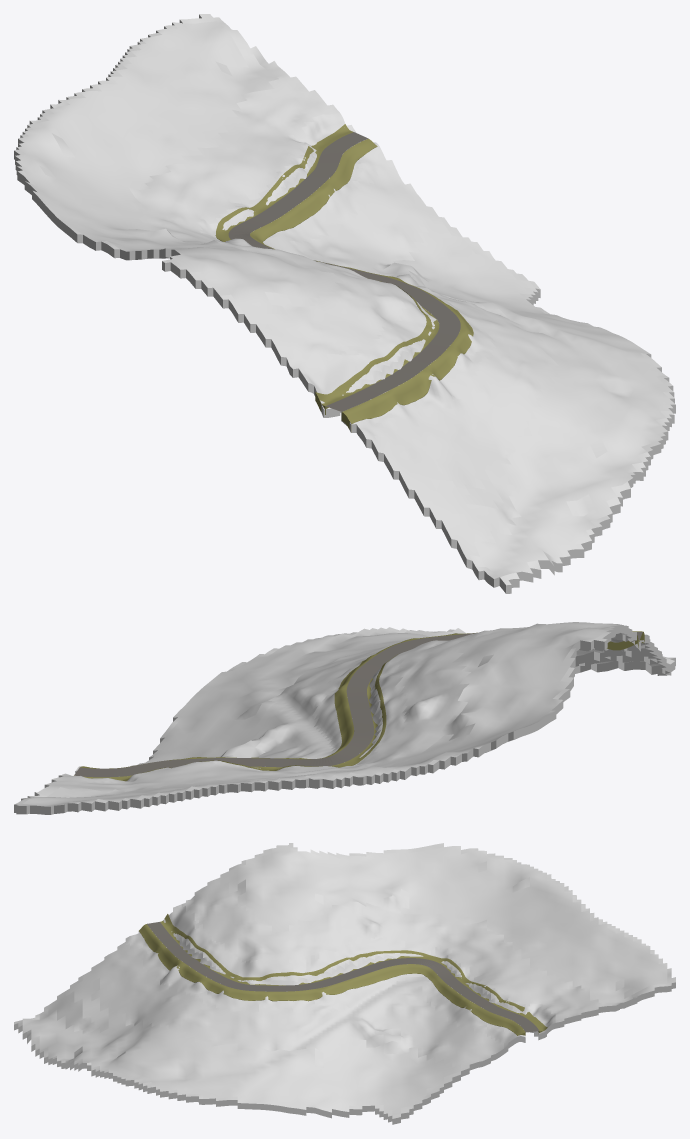
Rendered from conz_71.glb.
3 renders of one model, top to bottom at view 1: azimuth 30°, elevation 25°; view 2: azimuth 150°, elevation 25°; view 3: azimuth 270°, elevation 25°, orthographic. The views are drawn at different scales.
Visible parts, largest first — view 1: terrain71, road71, verge71R, verge71L; view 2: terrain71, road71, verge71R, verge71L; view 3: terrain71, verge71R, road71, verge71L.
Part boxes in pixels (box(x1,y1,x2,y2)): terrain71: box(14, 14, 675, 593); road71: box(228, 132, 460, 411); verge71R: box(250, 138, 473, 432); verge71L: box(215, 124, 439, 414); terrain71: box(14, 622, 675, 814); road71: box(74, 632, 642, 777); verge71R: box(80, 631, 644, 768); verge71L: box(74, 635, 639, 781); terrain71: box(14, 843, 675, 1124); verge71R: box(139, 924, 525, 1035); road71: box(147, 922, 538, 1032); verge71L: box(160, 914, 547, 1034).
Bounding box in the file's own units: 168 × 75.18 × 308.
